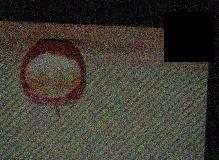rotten apple: (18, 35, 90, 108)
